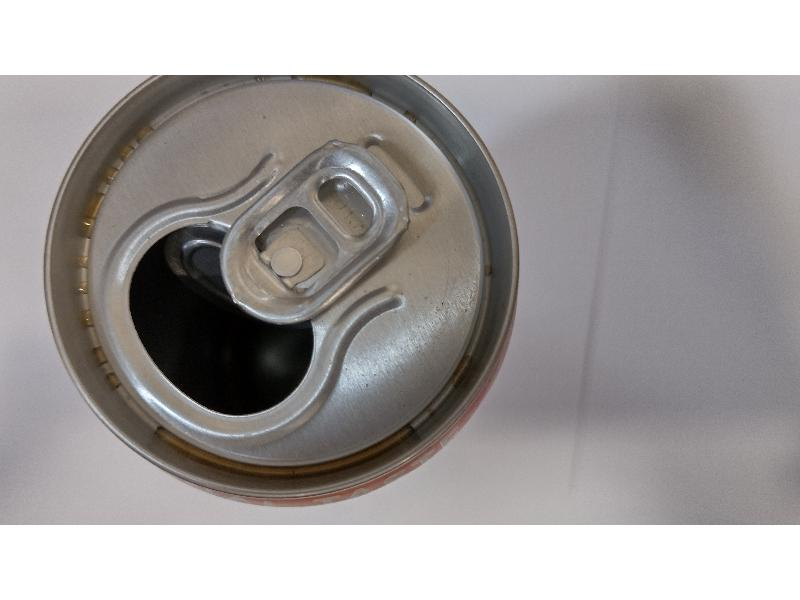can: (39, 75, 527, 510)
